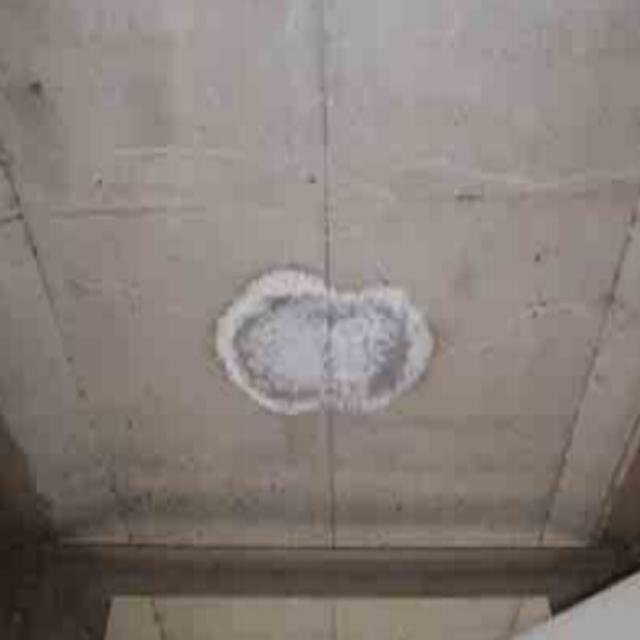freelime: (202, 242, 434, 428)
